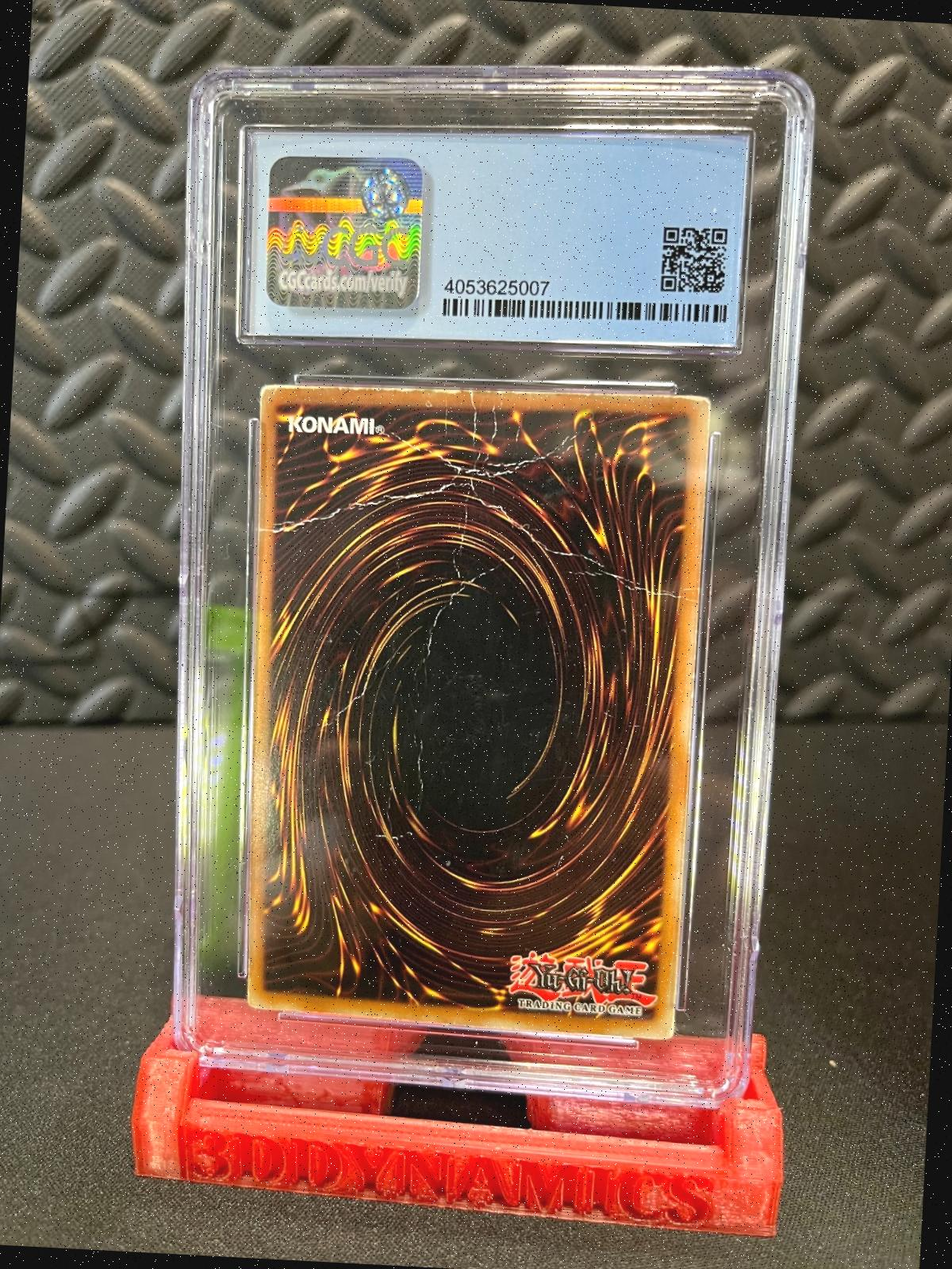card-2UtV: (247, 383, 712, 1040)
